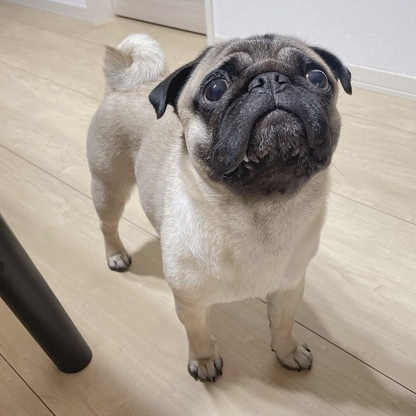Pug: (80, 30, 358, 386)
